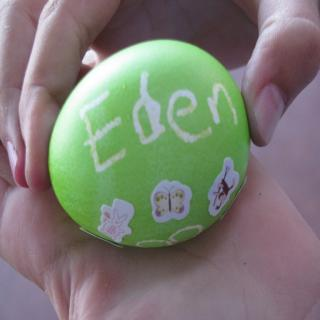Egg: (48, 37, 252, 247)
